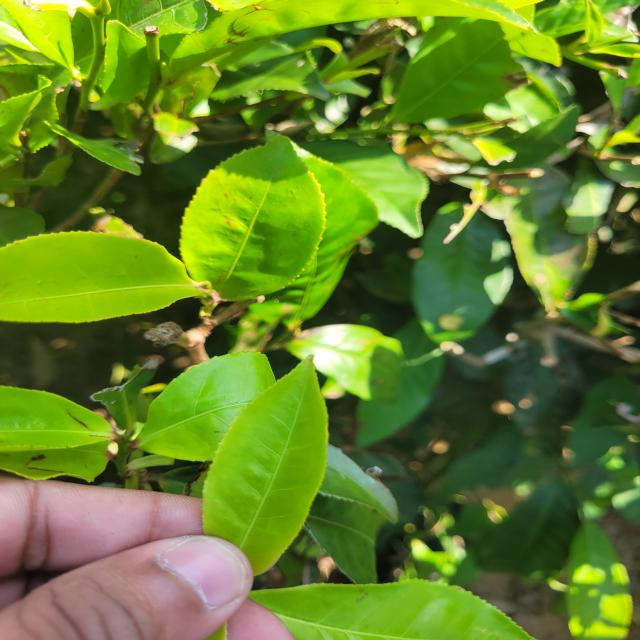Catagory A(1-2 days): (198, 345, 351, 584)
